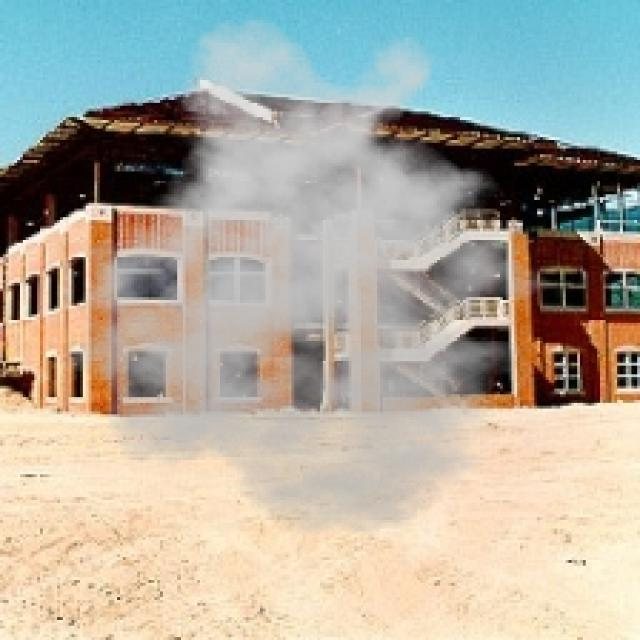Smoke: (52, 14, 574, 537)
